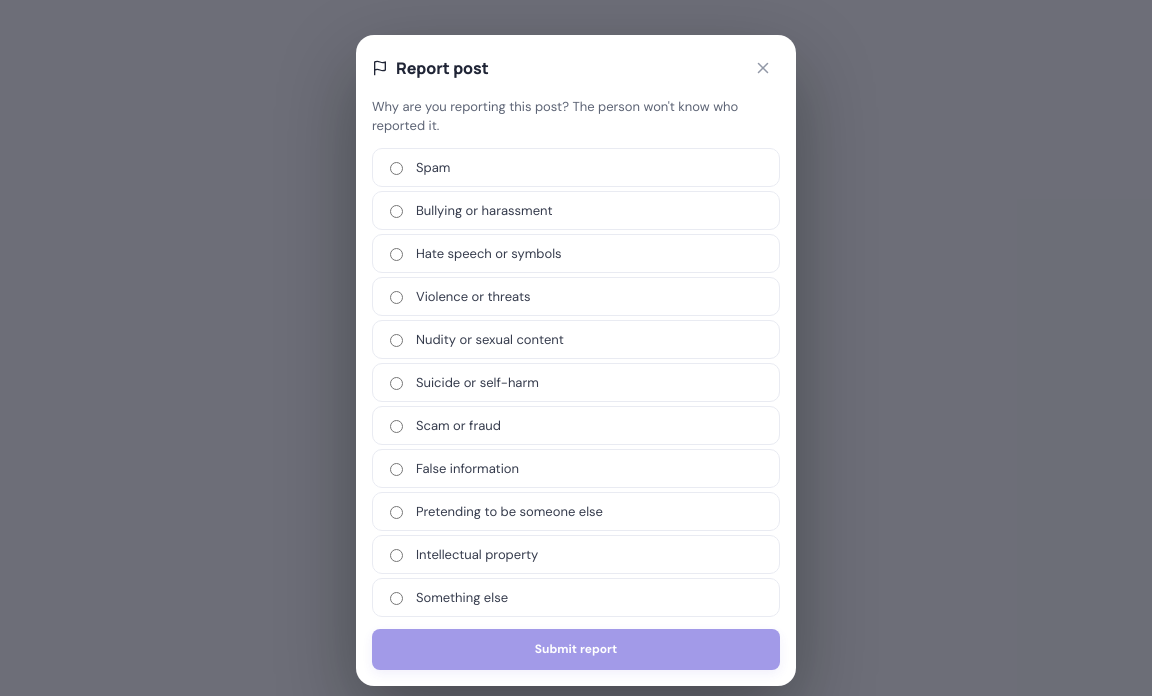
Test: ReportDialog › needs a reason, sends the report and confirms anonymously
This screenshot has width=1152, height=696.
Expected: the button "Submit report" is disabled, [372,628,780,670]
Click the radio button labelled "Scam or fraud" at (396, 426), box [390,420,403,433]
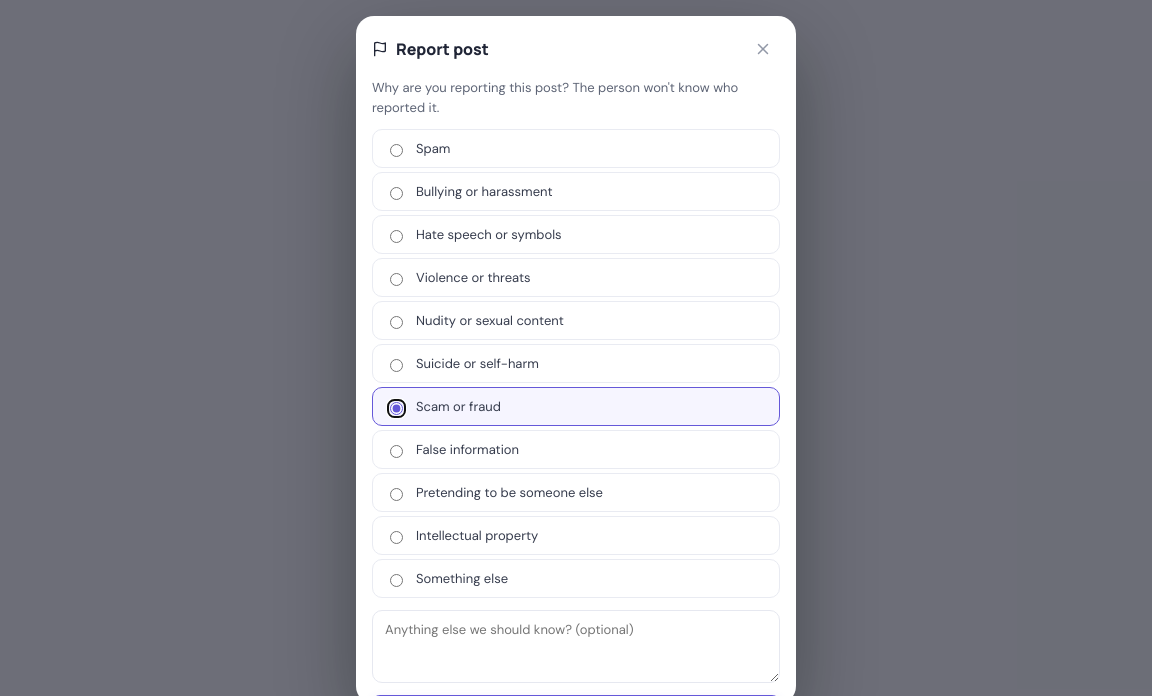
Type "Fake giveaway" into the text box named "Details" at (576, 646), box [372,610,780,683]
(page scrolled)
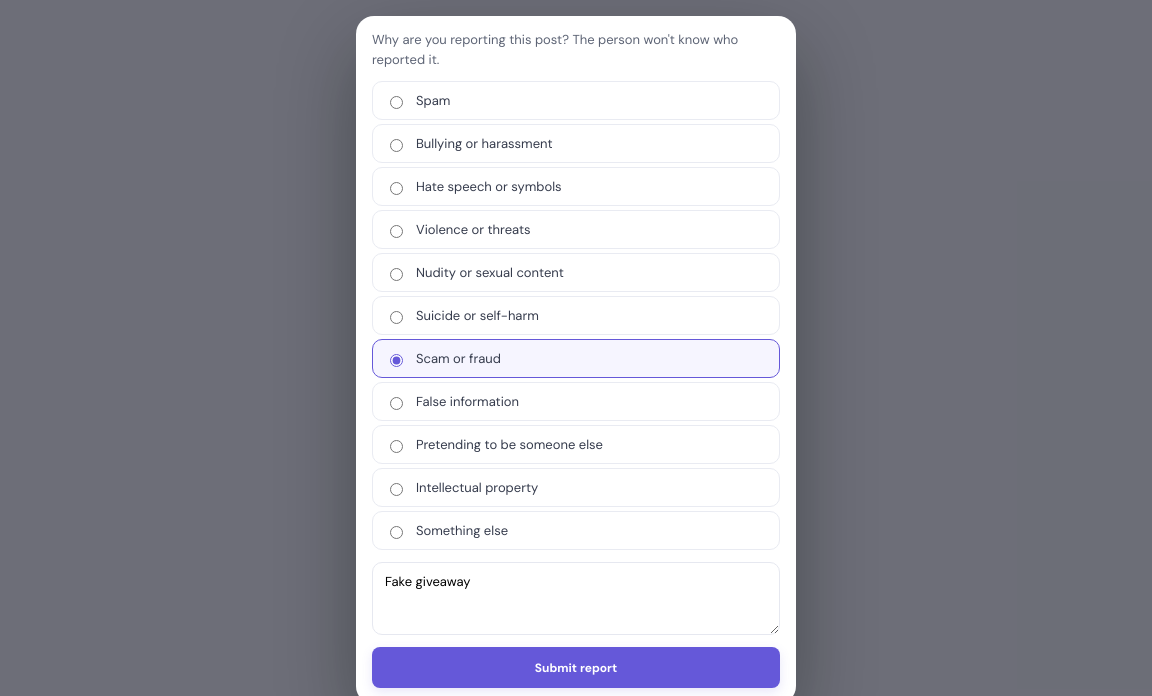
Click the button "Submit report" at (576, 668), box [372,647,780,688]
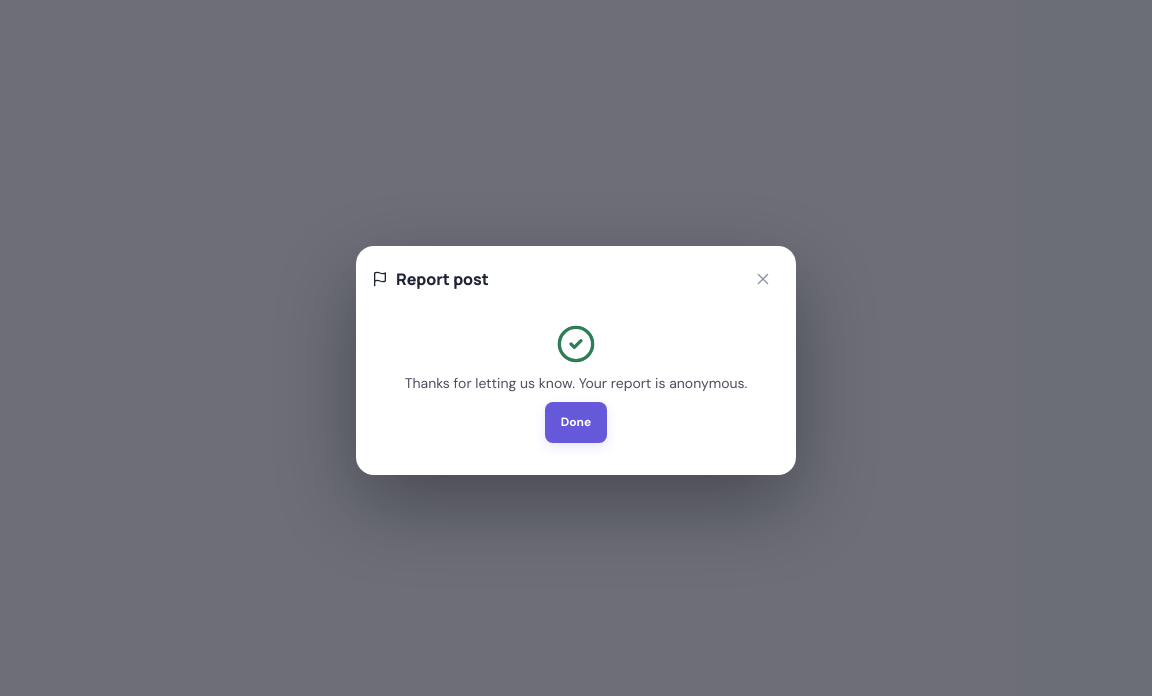
Now the text "Thanks for letting us know. Your report is anonymous." is shown, box [405,374,747,392]
